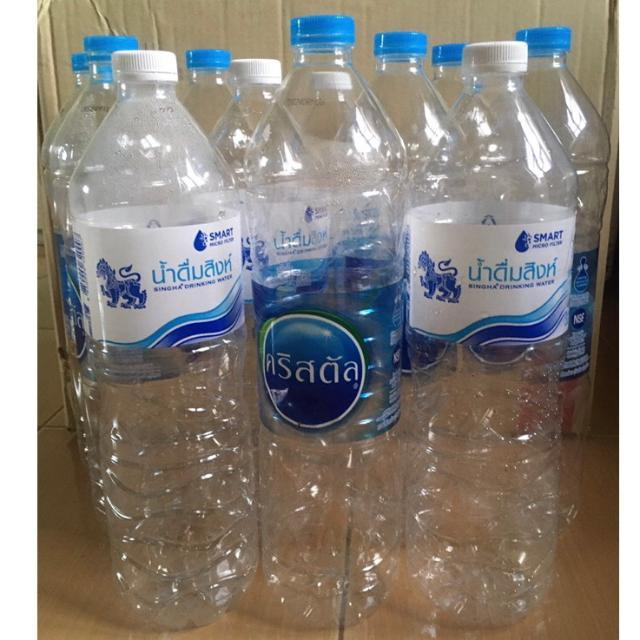PET Bottle: (54, 42, 266, 622), (386, 40, 576, 624), (228, 1, 394, 624), (519, 20, 640, 444)
